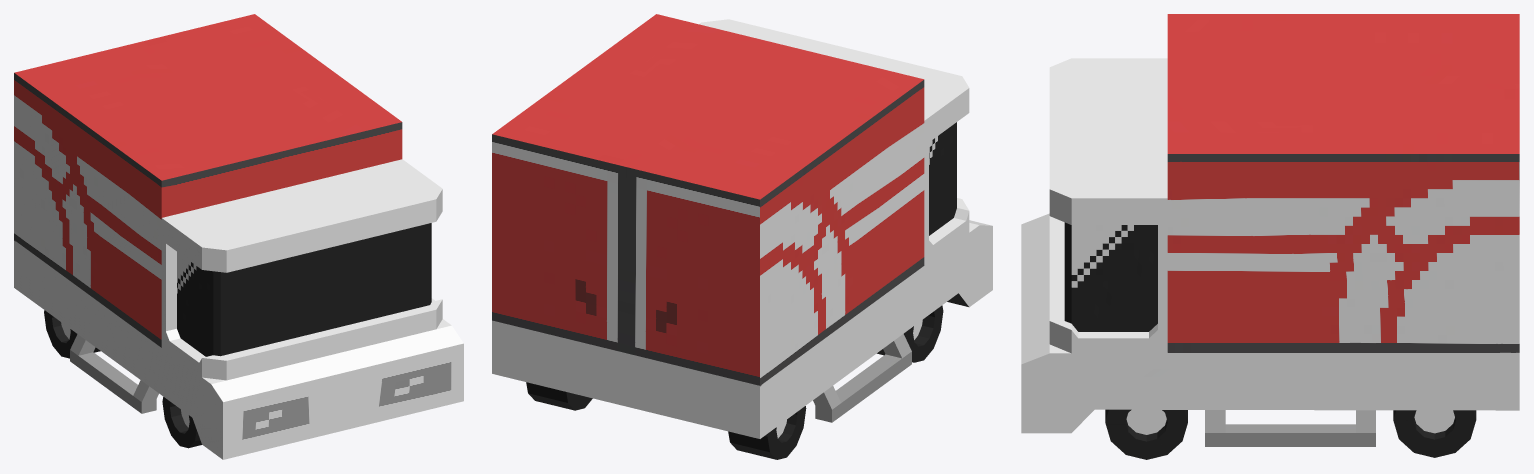
The model's file is MovingTruck.FBX.
The picture shows the model from 3 angles, left to right: view 1: azimuth 30°, elevation 25°; view 2: azimuth 150°, elevation 25°; view 3: azimuth 270°, elevation 25°; orthographic projection. The views are drawn at different scales.
Parts seen in each view (by area): view 1: Cube_Untitled; view 2: Cube_Untitled; view 3: Cube_Untitled.
Part boxes in pixels (<box>): Cube_Untitled: <box>14,14,463,459</box>; Cube_Untitled: <box>492,14,992,459</box>; Cube_Untitled: <box>1021,14,1519,459</box>.
Size of the model in its own units: 10.35 by 10.36 by 15.03.
Materials: 1 (1 with a texture image).
